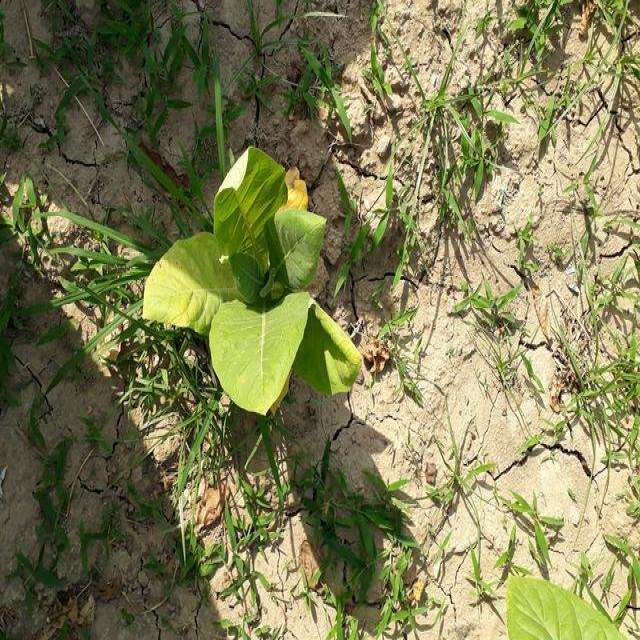crop: (150, 148, 370, 405), (501, 567, 634, 640)
